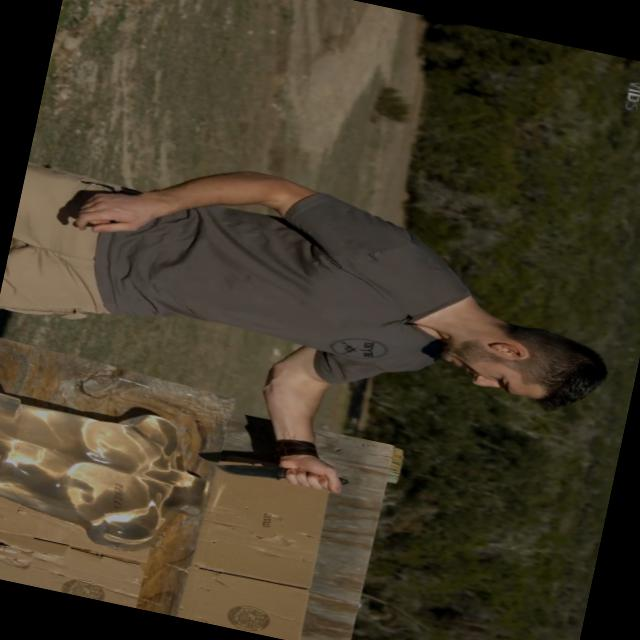knife: (207, 442, 351, 504)
